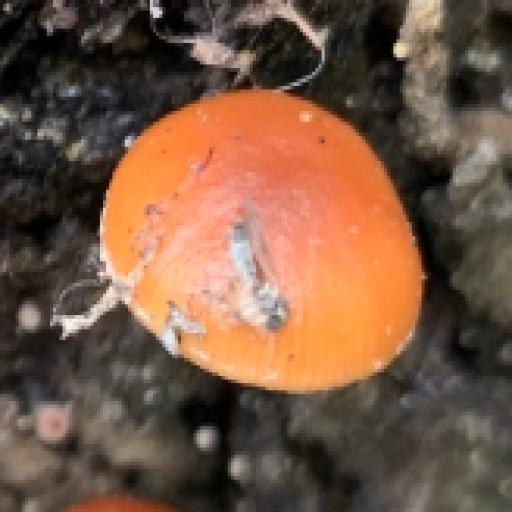mushroom: (89, 68, 435, 405)
